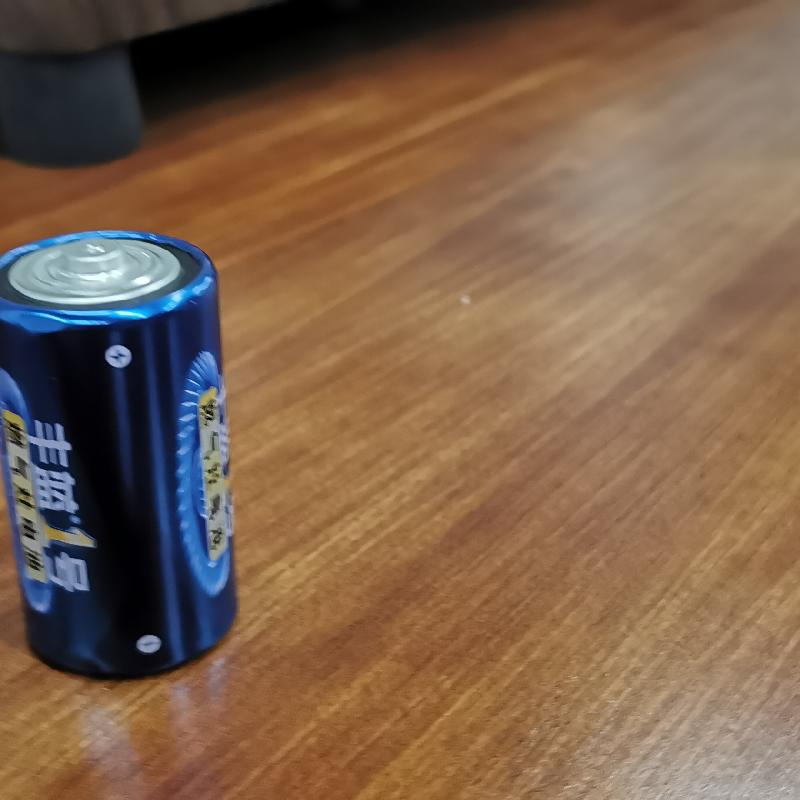battery: (3, 228, 239, 674)
